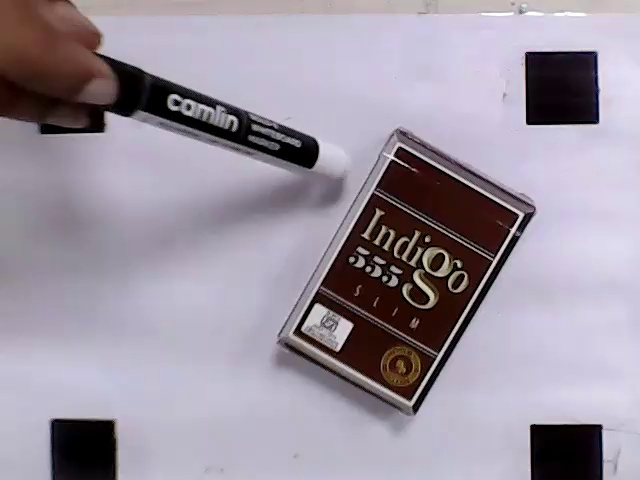BEX: (290, 144, 521, 404)
